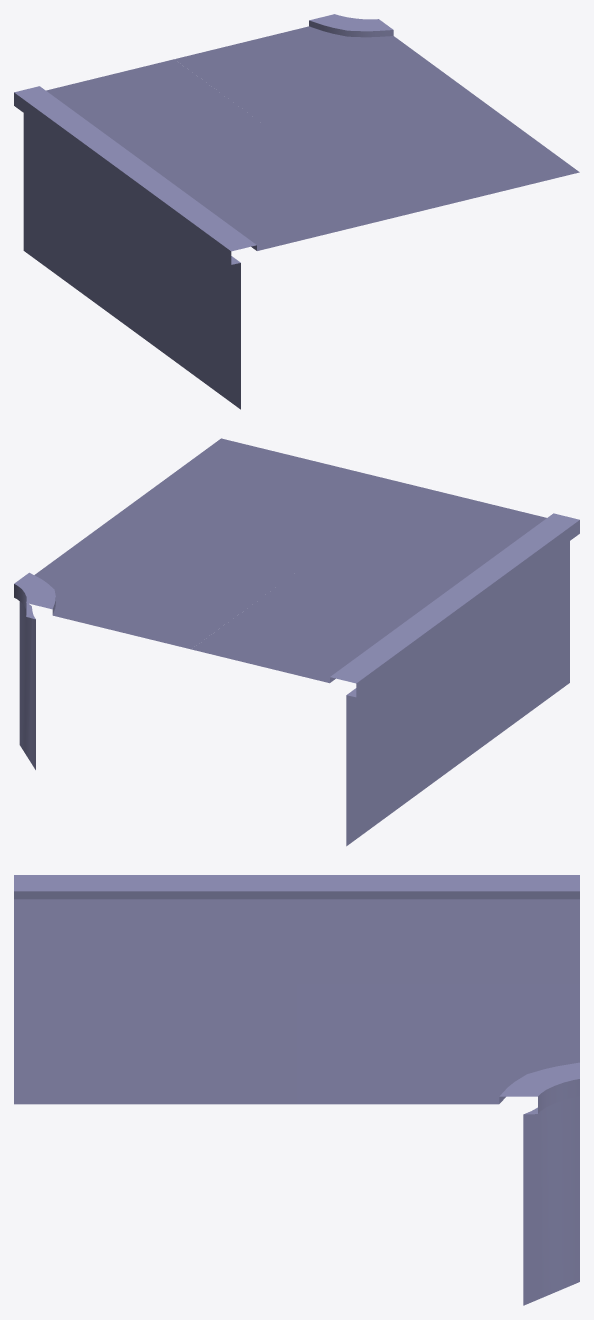
Rendered from Wall_Outside_Corner_x1.fbx.
3 views of the same model, one above another, from view 1: azimuth 30°, elevation 25°; view 2: azimuth 150°, elevation 25°; view 3: azimuth 270°, elevation 25° (orthographic). The views are drawn at different scales.
Parts seen in each view (by area): view 1: Wall_Outside_Corner_x1; view 2: Wall_Outside_Corner_x1; view 3: Wall_Outside_Corner_x1.
Boxes of the visible parts, x1=… form: Wall_Outside_Corner_x1: x1=14, y1=14, x2=579, y2=409; Wall_Outside_Corner_x1: x1=14, y1=438, x2=579, y2=846; Wall_Outside_Corner_x1: x1=14, y1=875, x2=579, y2=1305.
Size of the model in its own units: 232 by 102 by 250.
